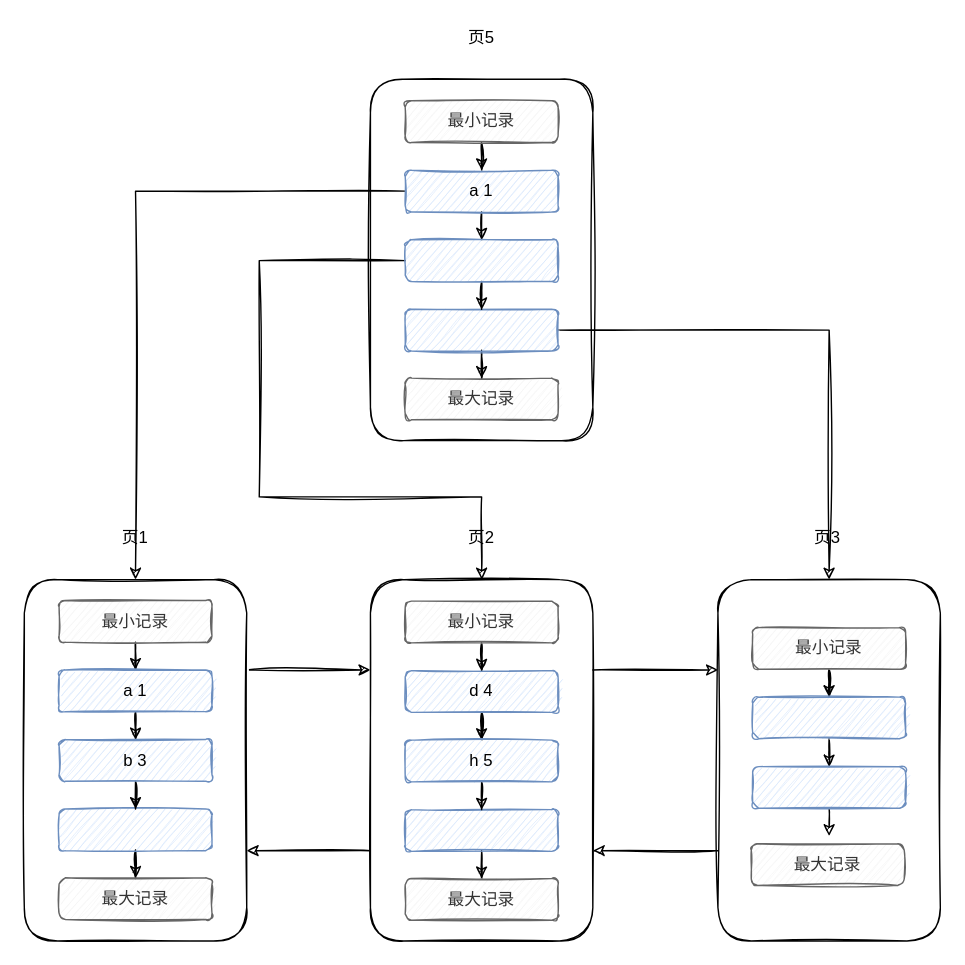
The diagram is 965 pixels wide and 965 high, and some of its shapes have lost their labels. The shapes that lost their labels are listed below. From the top down, each one's centre as x and y in pixels, then its label:
At point (481, 259): "d 2".
At point (481, 329): "l 3".
At point (828, 717): "l 6".
At point (828, 786): "x 8".
At point (135, 829): "c 2".
At point (481, 829): "k 7".
